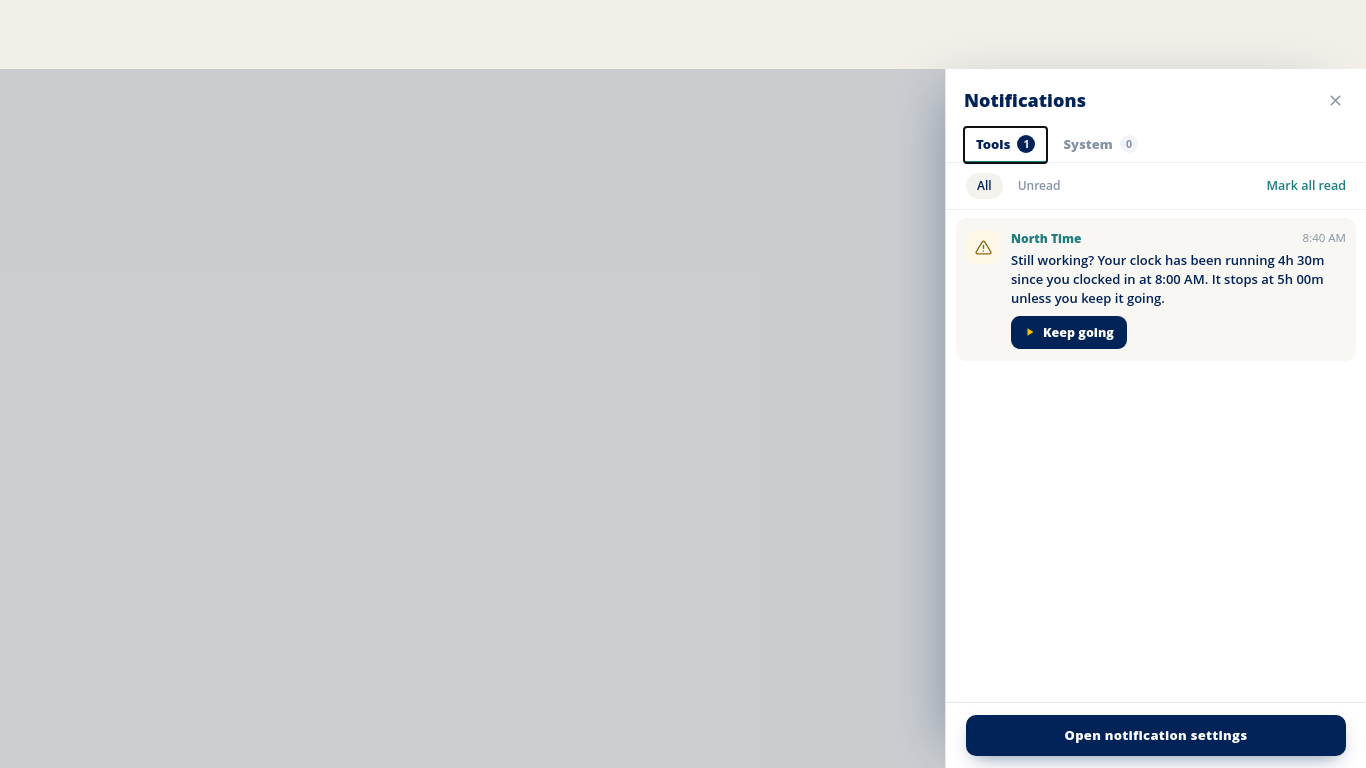
Scenario: North Time in the bell › keeps the clock going from the bell, with the toast and the done line
Click the button "Keep going": x=1069, y=332 [1011,316,1127,348]
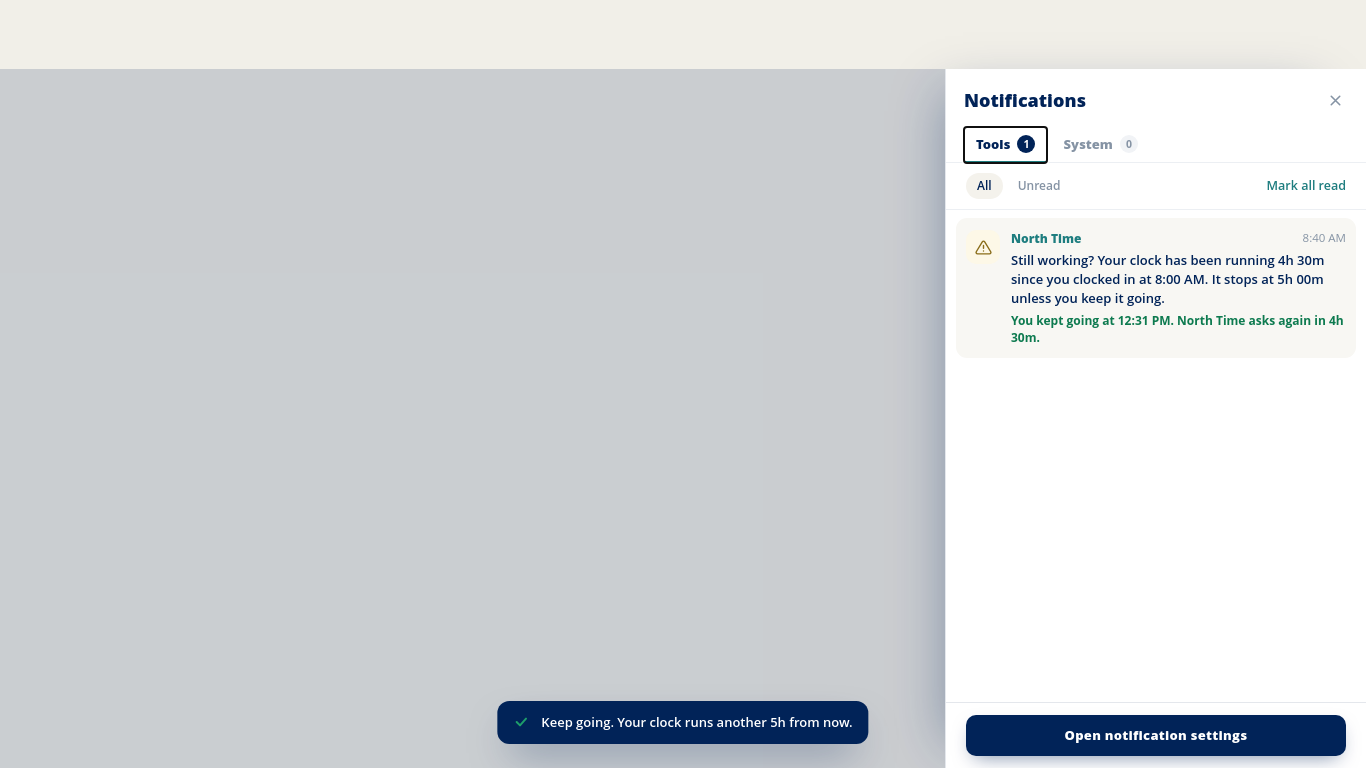
Expected: the text "You kept going at 12:31 PM. North Time asks again in 4h 30m." is shown, [1011,312,1346,346]
Expected: the message reads "Keep going. Your clock runs another 5h from now.", [541,712,853,730]
